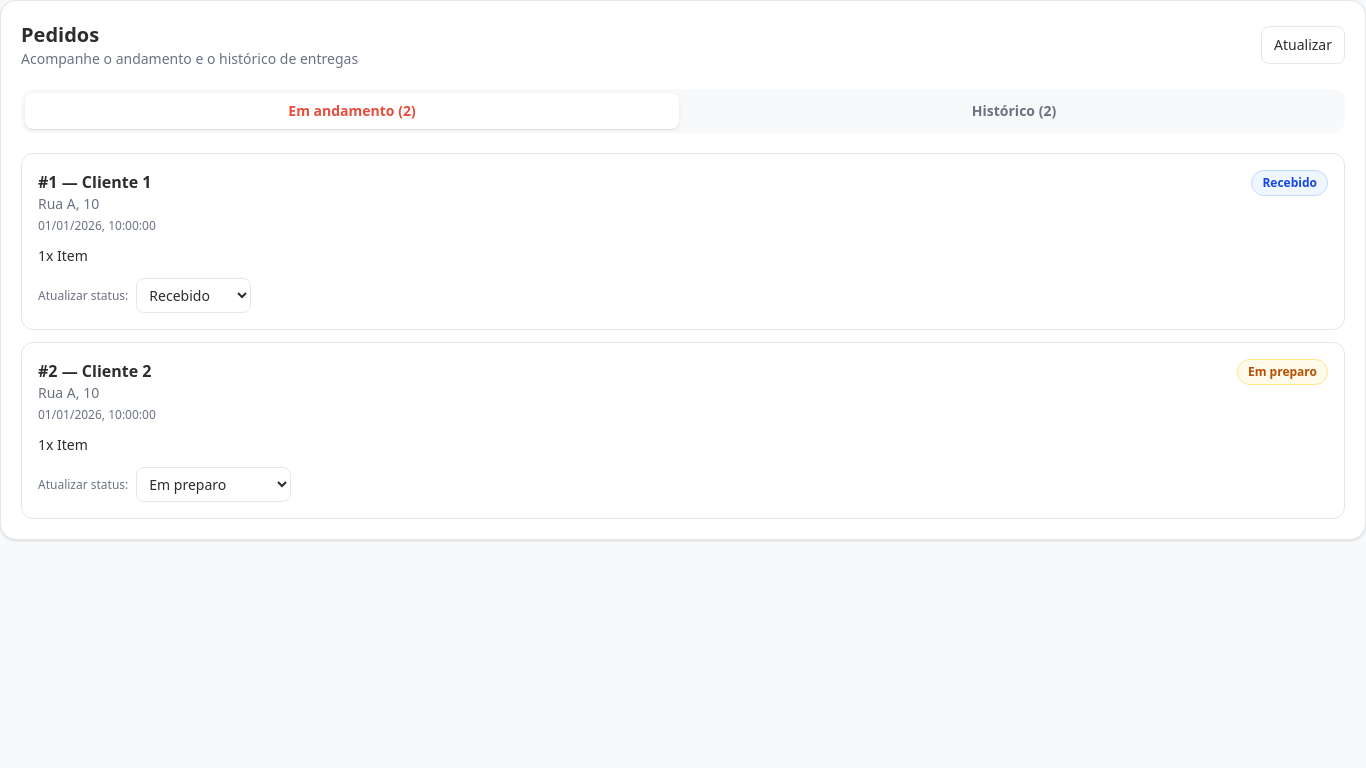
Test: PedidoList › troca para o historico ao clicar na aba
Click the button "Histórico (2)": click(1014, 111) [687,93,1341,129]
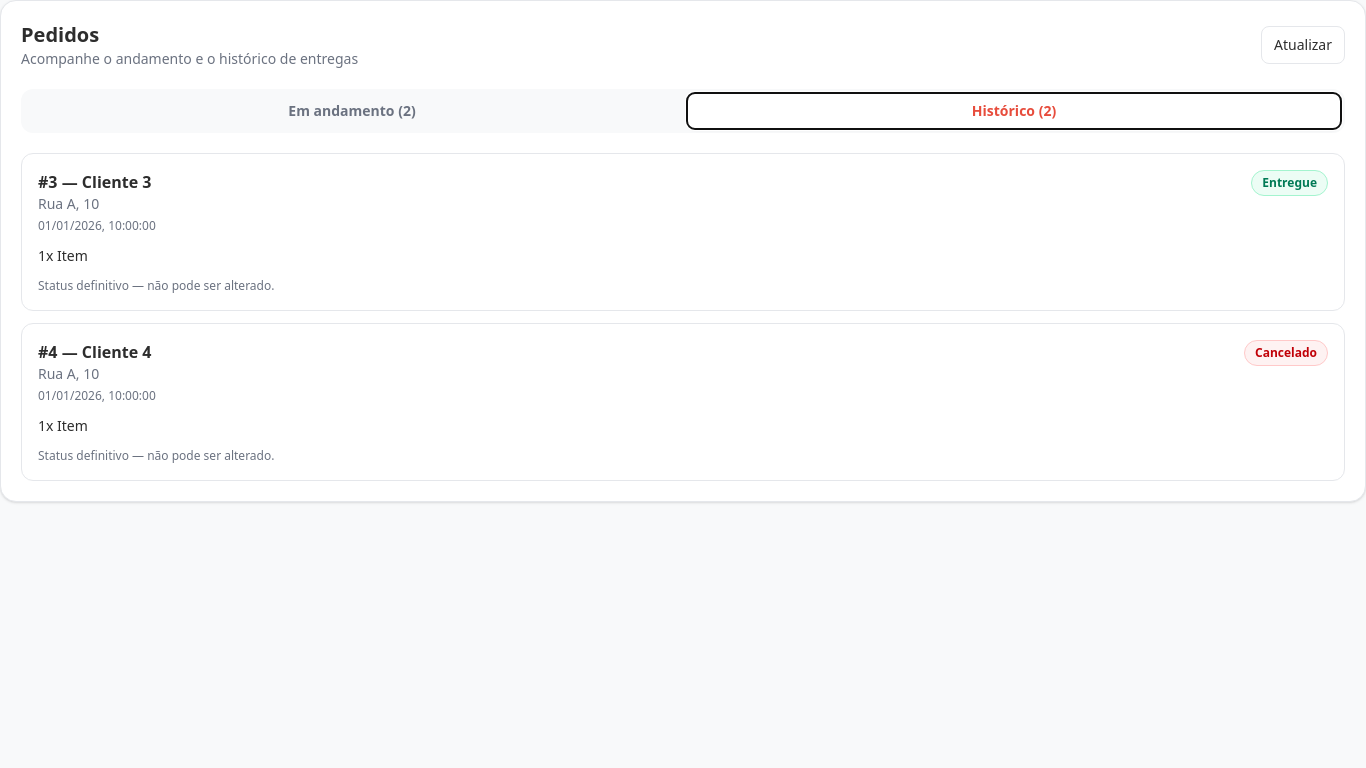
Result: the text "#3 — Cliente 3" is shown at [38,170,156,194]
Result: the text "#4 — Cliente 4" is shown at [38,340,156,364]
Result: the text "Cliente 1" is gone
